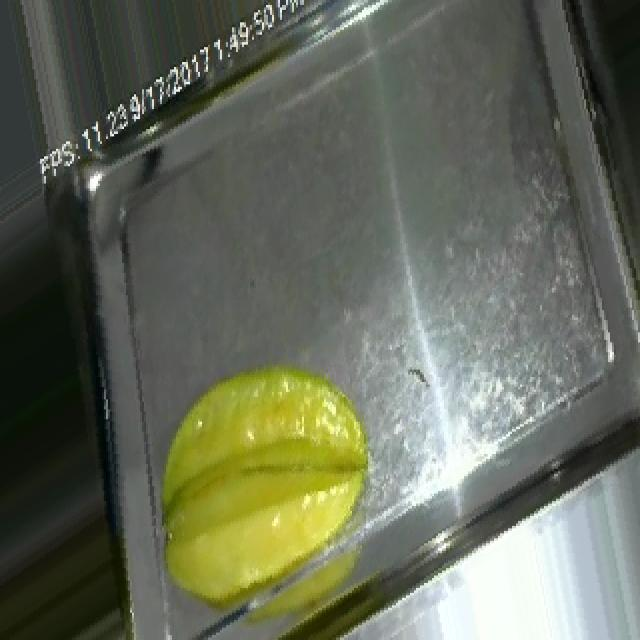fruit: (124, 310, 410, 640)
